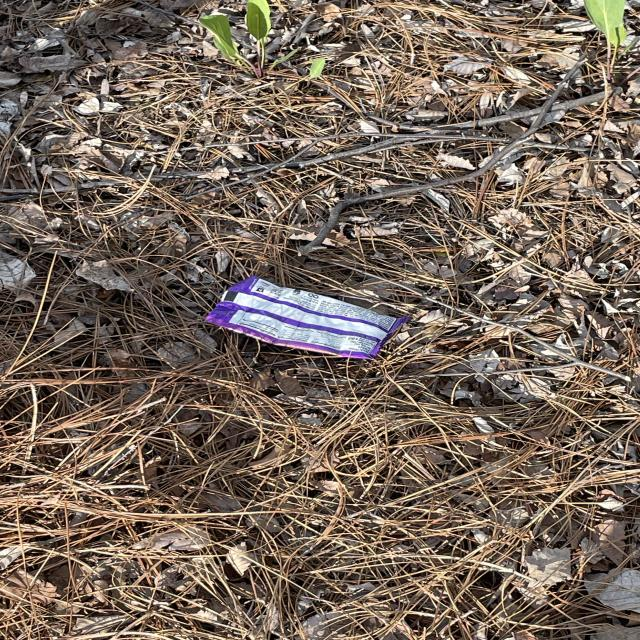plastic: (202, 273, 400, 359)
trash-zQNu: (203, 272, 401, 364)
